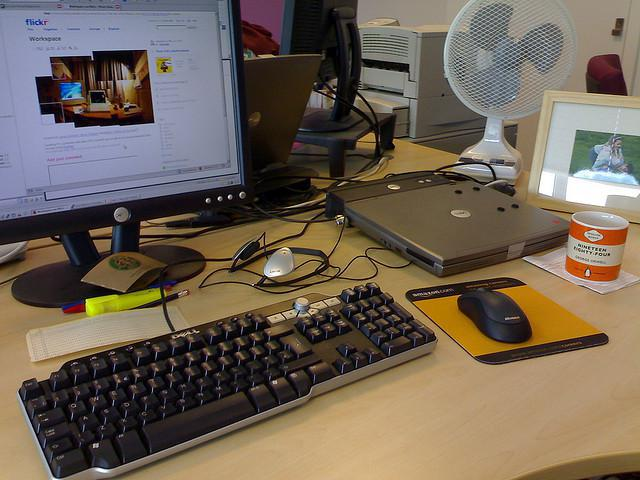tv: (0, 1, 274, 269)
